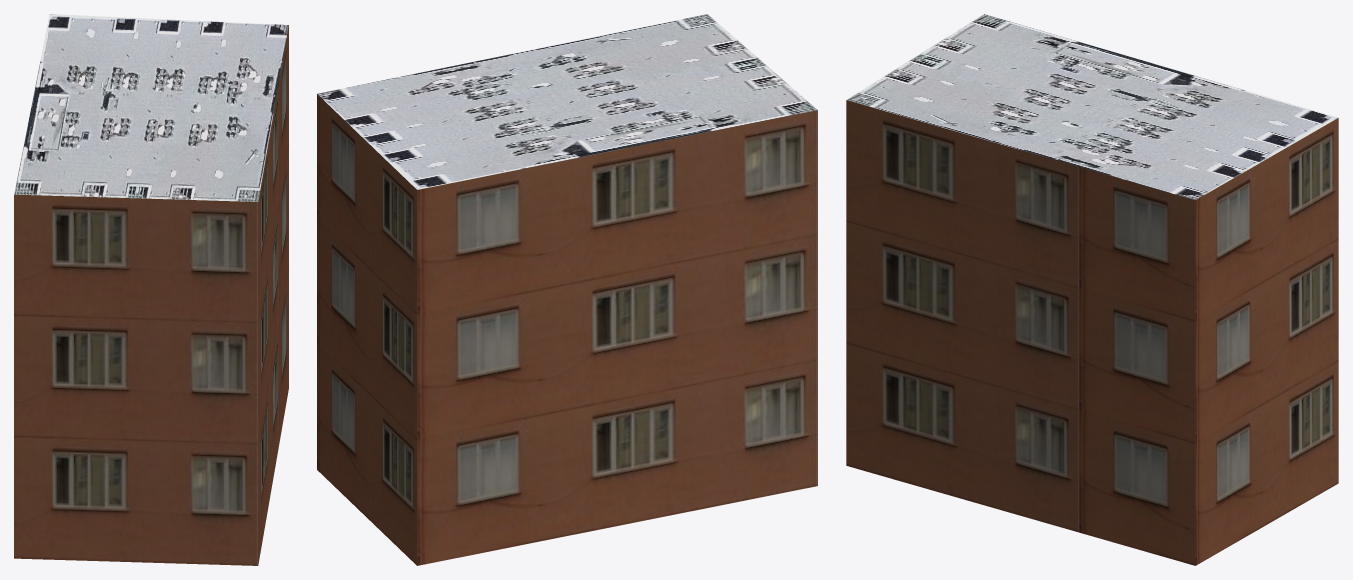
The model's file is ResTex__226.fbx.
The picture shows the model from 3 angles, left to right: view 1: azimuth 30°, elevation 25°; view 2: azimuth 150°, elevation 25°; view 3: azimuth 270°, elevation 25°; orthographic projection. The views are drawn at different scales.
Visible parts, largest first — view 1: CityEngineMaterial_20_m, CityEngineMaterial_4_m; view 2: CityEngineMaterial_20_m, CityEngineMaterial_4_m; view 3: CityEngineMaterial_20_m, CityEngineMaterial_4_m.
Part boxes in pixels (bbox=[...]): CityEngineMaterial_20_m: bbox=[14, 25, 288, 565]; CityEngineMaterial_4_m: bbox=[14, 14, 288, 201]; CityEngineMaterial_20_m: bbox=[317, 94, 817, 565]; CityEngineMaterial_4_m: bbox=[317, 14, 817, 189]; CityEngineMaterial_20_m: bbox=[846, 100, 1338, 565]; CityEngineMaterial_4_m: bbox=[847, 14, 1337, 199].
Bounding box in the file's own units: 9.83 × 9 × 10.97.
Materials: 2 (2 with a texture image).
